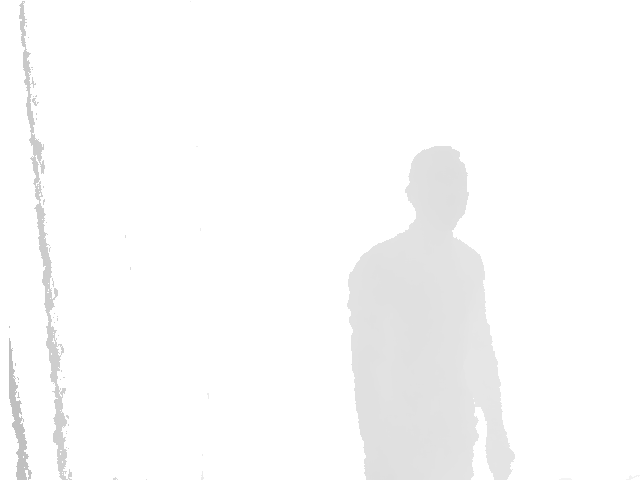head: (404, 145, 469, 235)
person: (345, 144, 518, 480)
